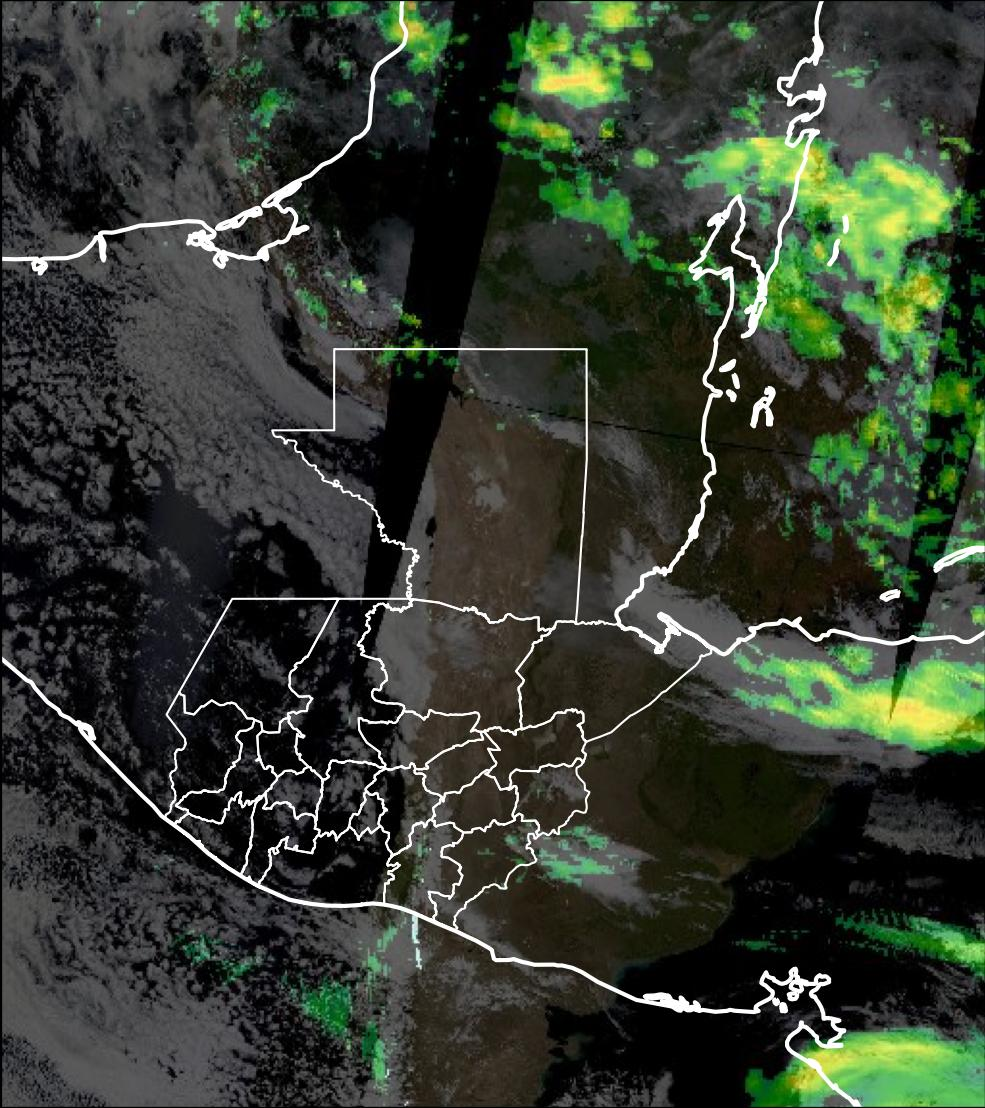precipitacion: (858, 686, 972, 751)
